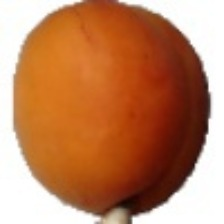apricot: (17, 38, 208, 224)
